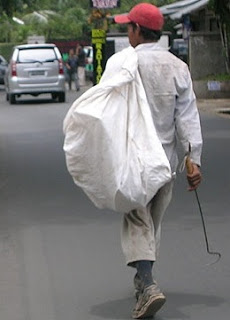pemulung: (53, 1, 226, 318)
